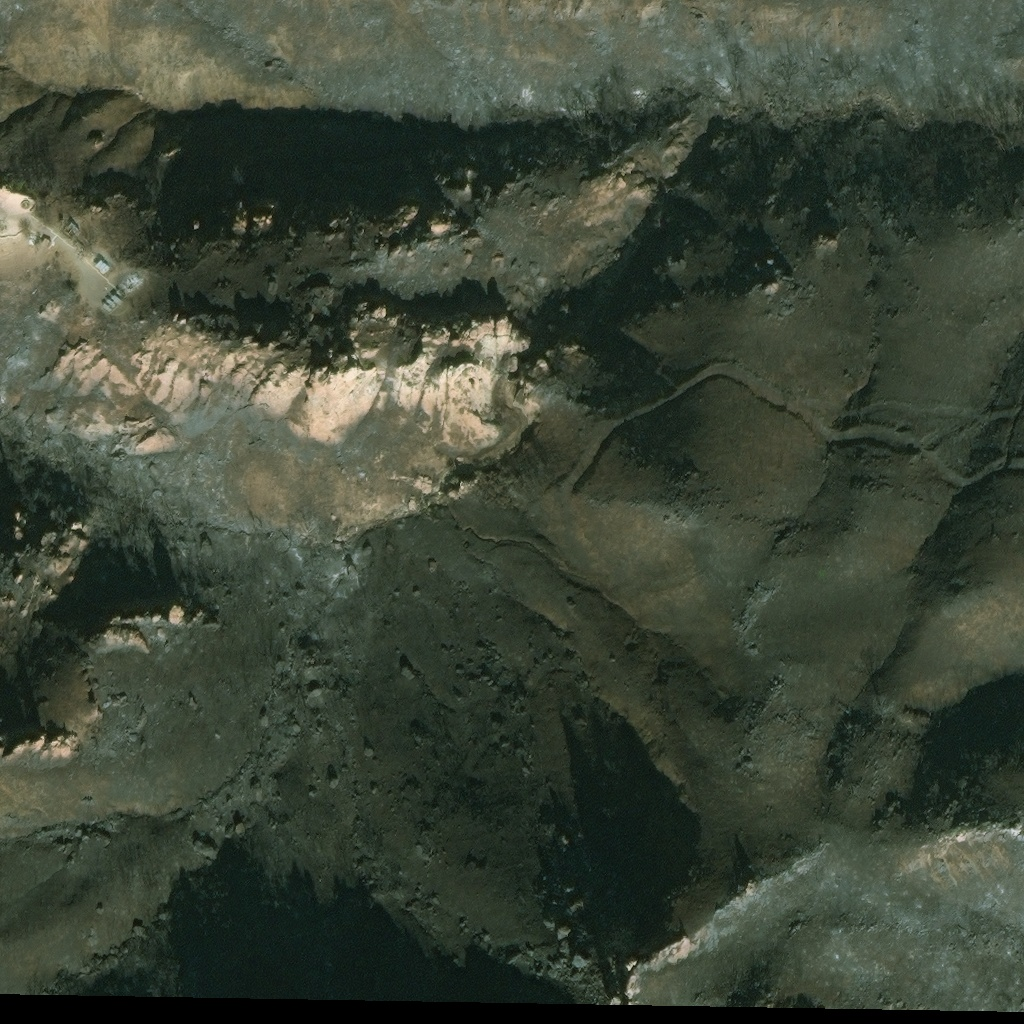0 no-damage: (94, 257, 112, 273), (40, 235, 52, 247)
1 minor-damage: (110, 289, 120, 301), (106, 296, 117, 306), (117, 287, 127, 297), (103, 300, 112, 309)
2 major-damage: (63, 217, 81, 236)
3 destroyed: (125, 267, 144, 287), (29, 228, 41, 240), (75, 237, 86, 249)
